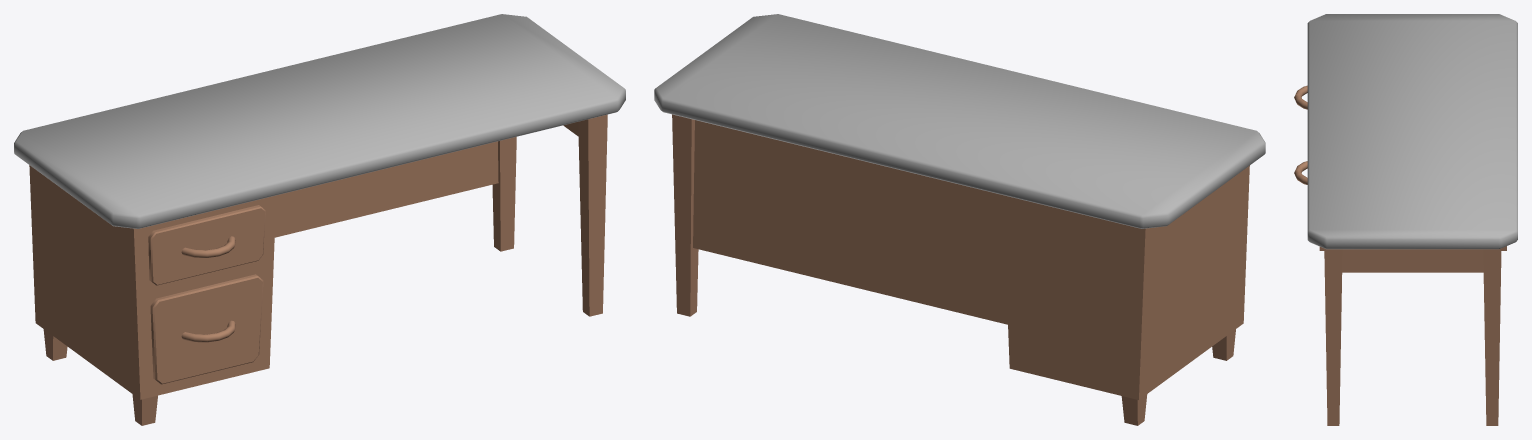
Rendered from bureau.fbx.
The picture shows the model from 3 angles, left to right: view 1: azimuth 30°, elevation 25°; view 2: azimuth 150°, elevation 25°; view 3: azimuth 270°, elevation 25°; orthographic projection. The views are drawn at different scales.
Parts seen in each view (by area): view 1: polymsh15; view 2: polymsh15; view 3: polymsh15.
Boxes of the visible parts, x1,y1,x2,y2 form: polymsh15: (14,14,625,425); polymsh15: (654,14,1265,425); polymsh15: (1294,14,1517,425).
Size of the model in its own units: 25.38 by 10.43 by 10.69.
